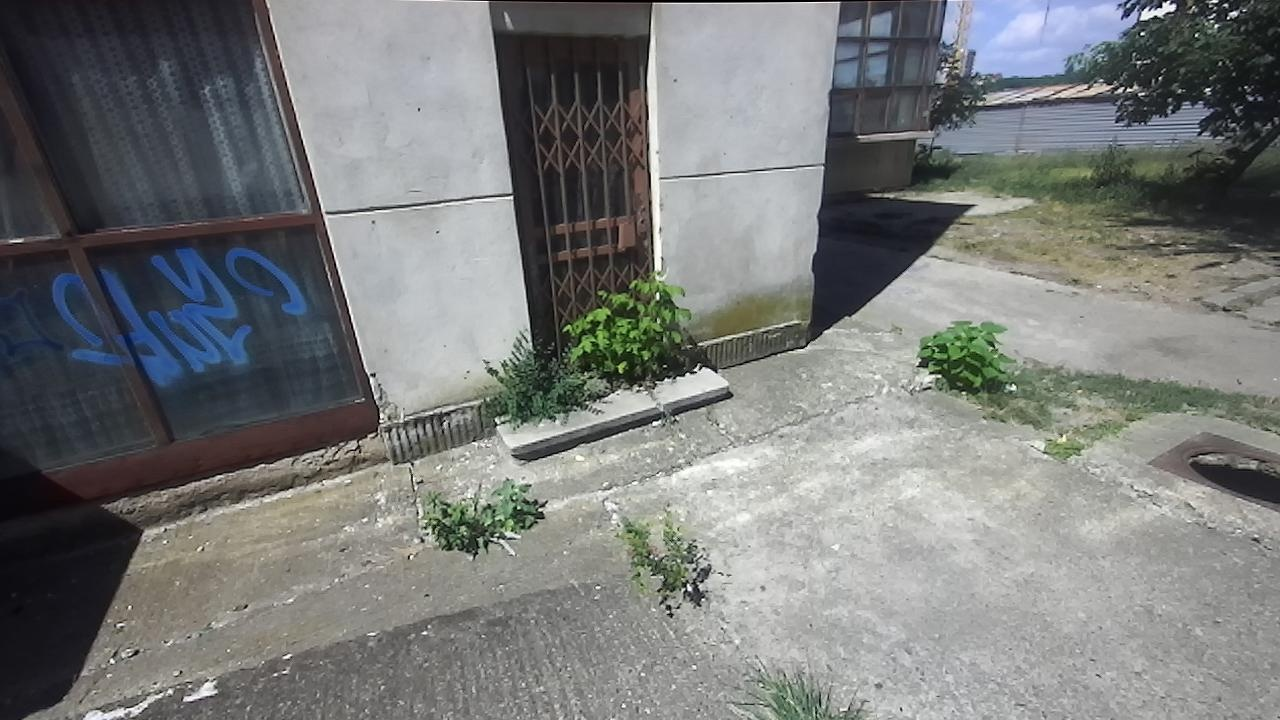drain: (1170, 440, 1279, 505)
